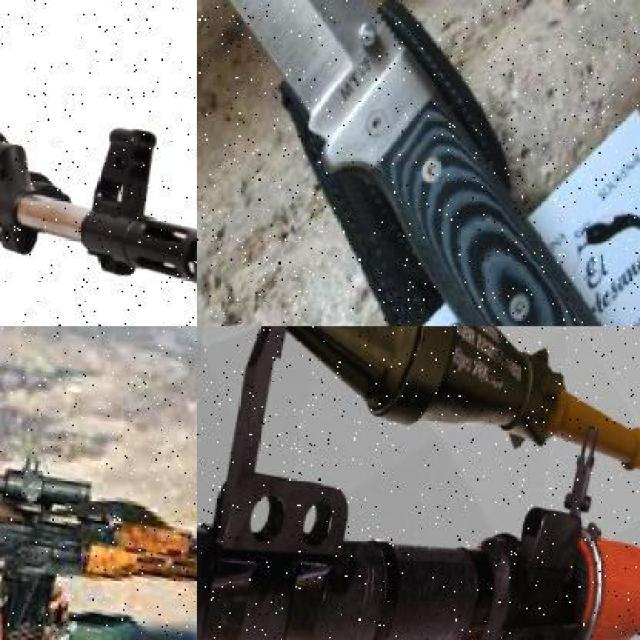weapon: (219, 0, 619, 349)
